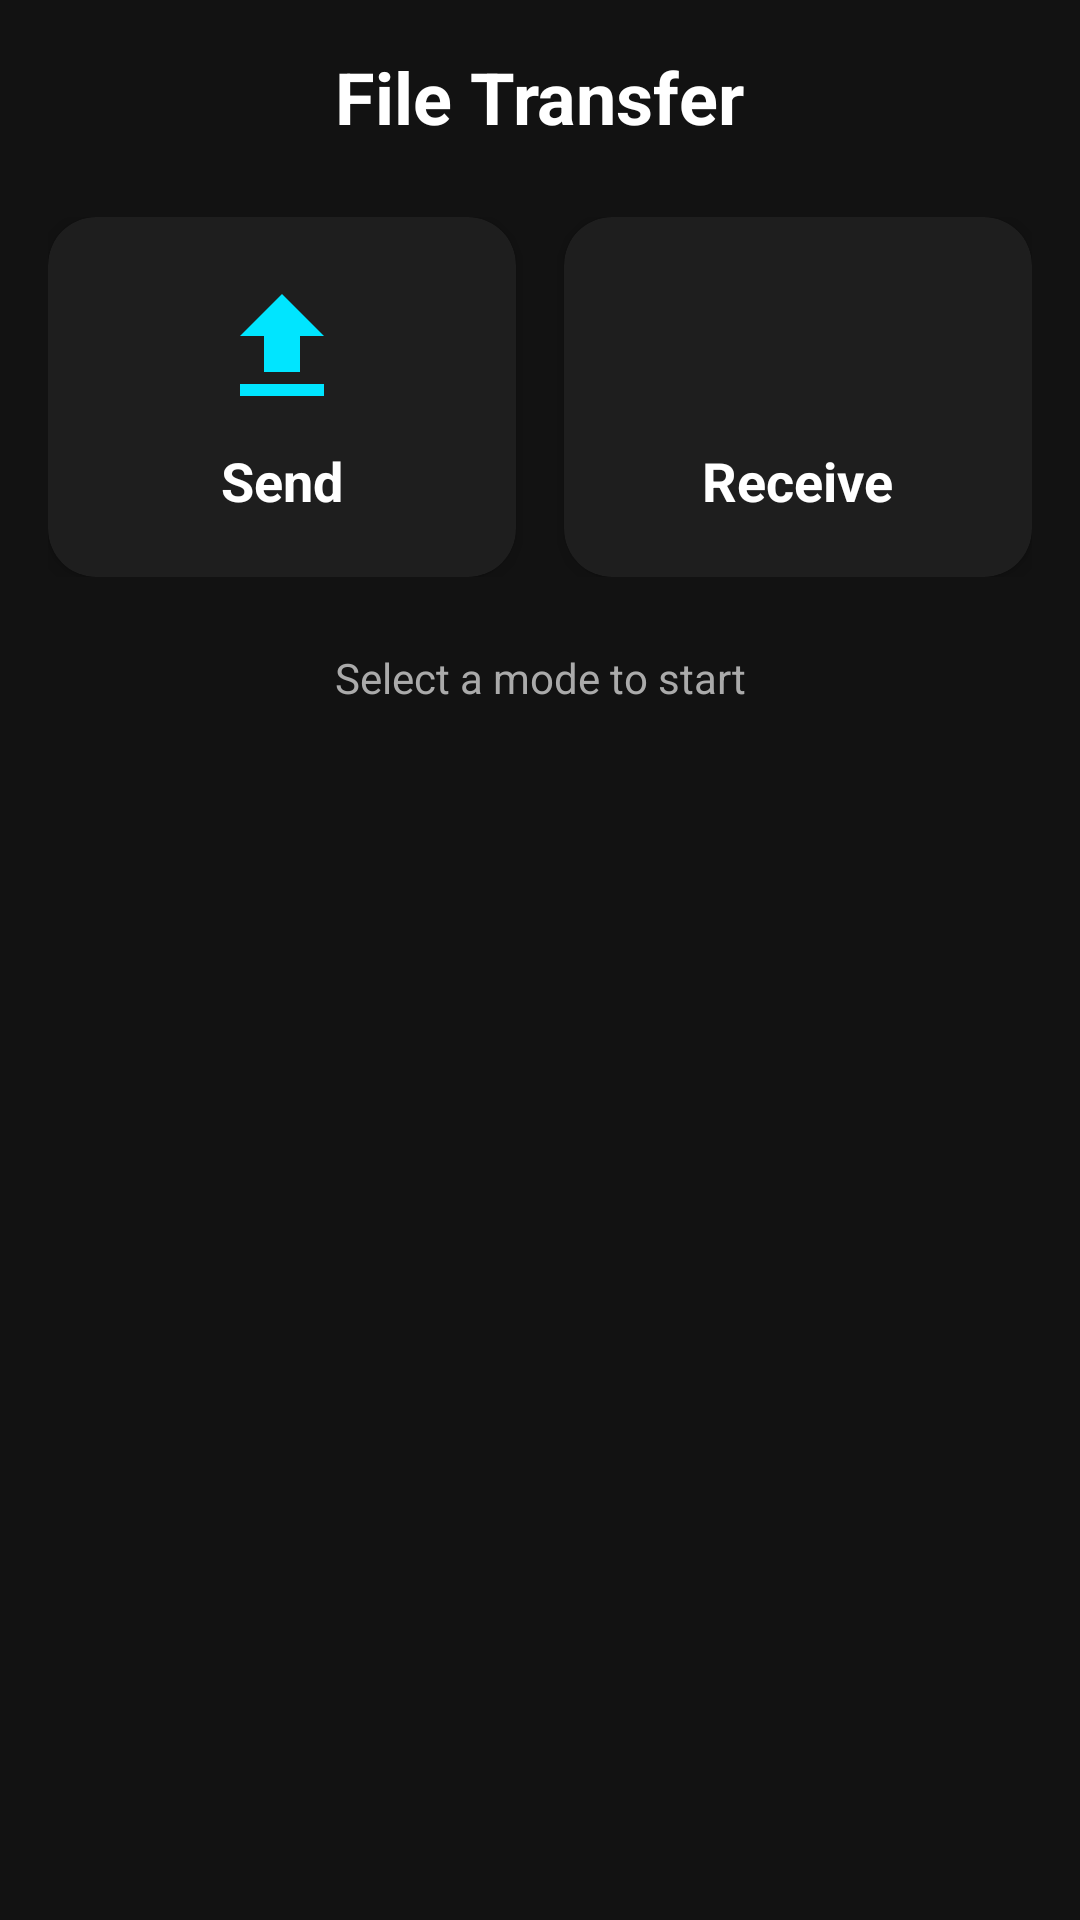

Named icons in this screenshot (1080 × 1920) and their centers, (x,y):
upload: (282,345)
